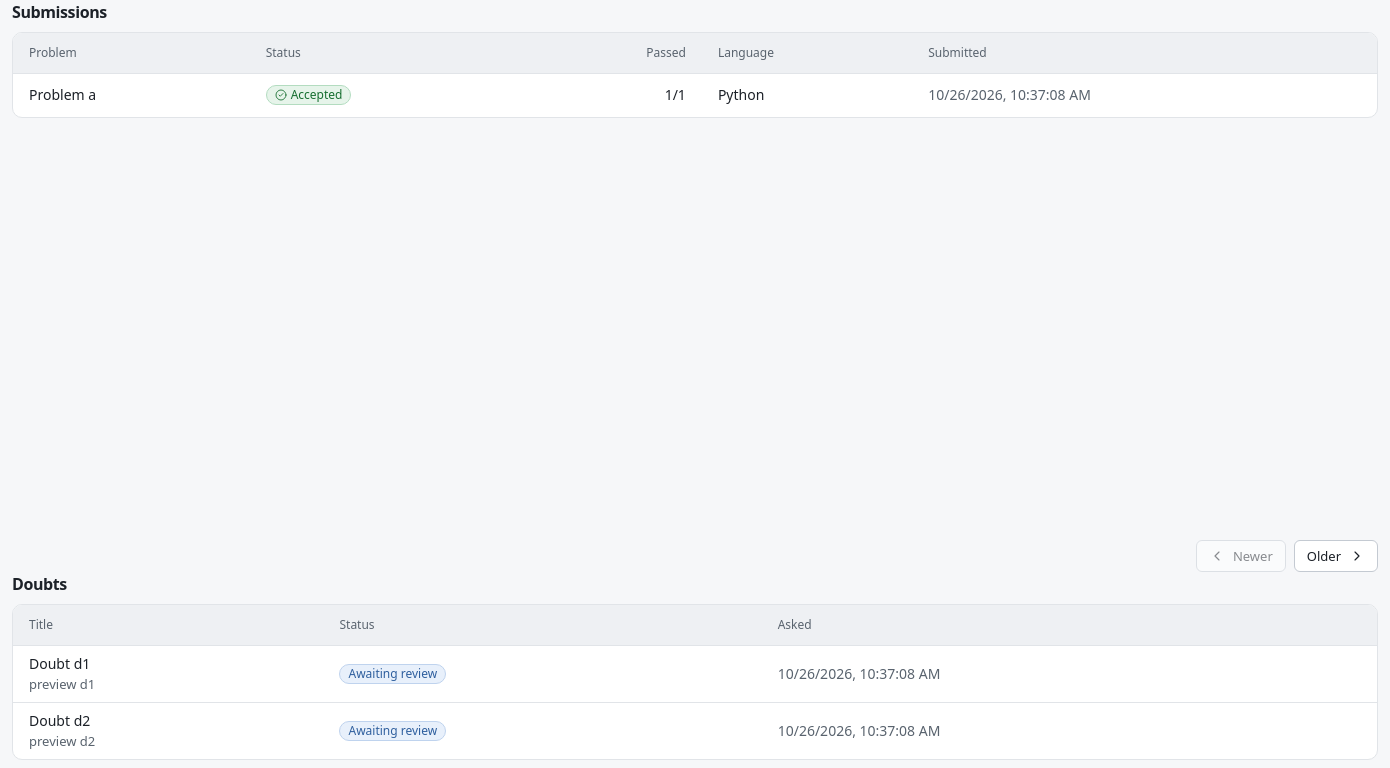
Test case: pages Older, Newer and Newest, keeping each list cursor in its own URL parameter
The image size is (1390, 768).
Expected: the link "Problem a" is shown, left=29, top=85, right=96, bottom=104
Expected: the button with aria-label "Newer submissions" is disabled, left=1196, top=540, right=1286, bottom=572
Click the button with aria-label "Older submissions" at (1336, 556), box left=1294, top=540, right=1378, bottom=572
(page scrolled)
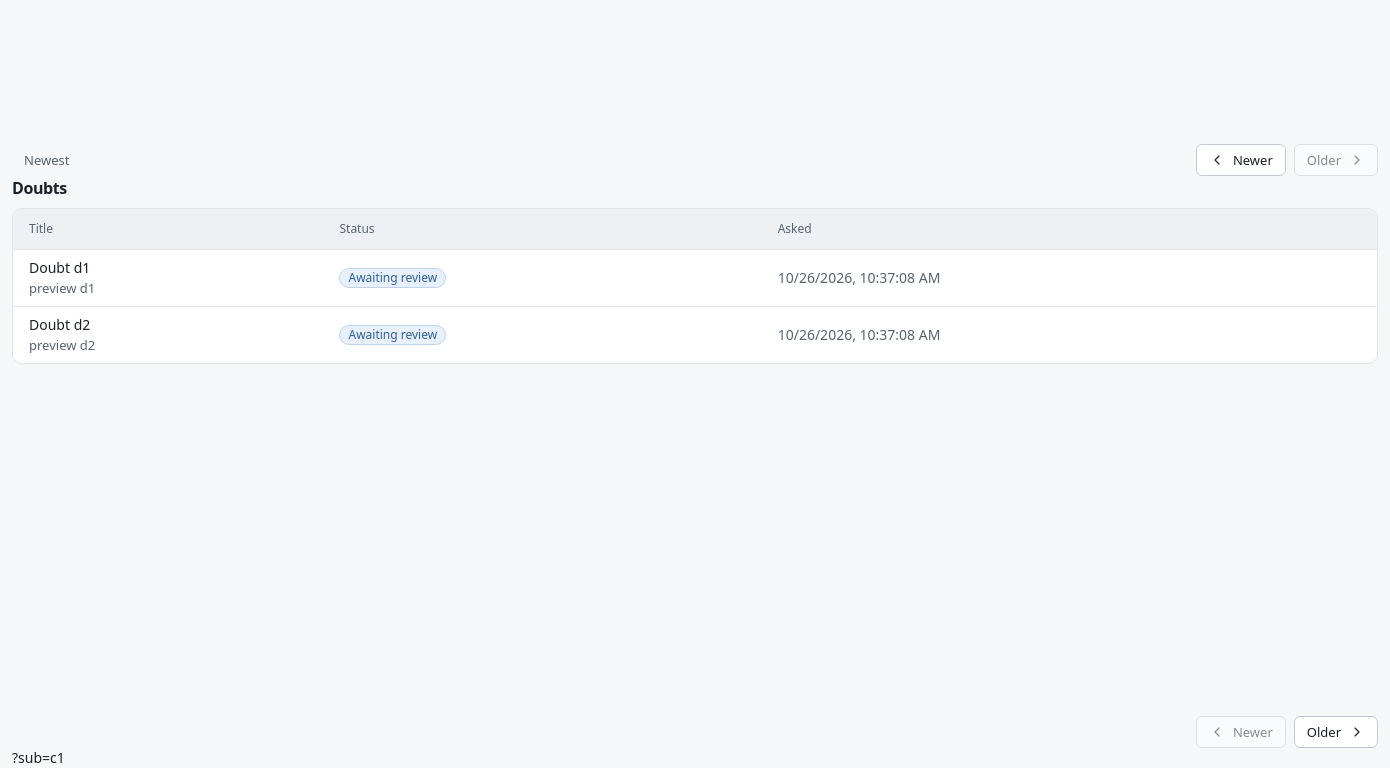
Expected: the text with test id "search" reads "?sub=c1", left=12, top=748, right=65, bottom=767
Click the button with aria-label "Older doubts" at (1336, 732), box left=1294, top=716, right=1378, bottom=748
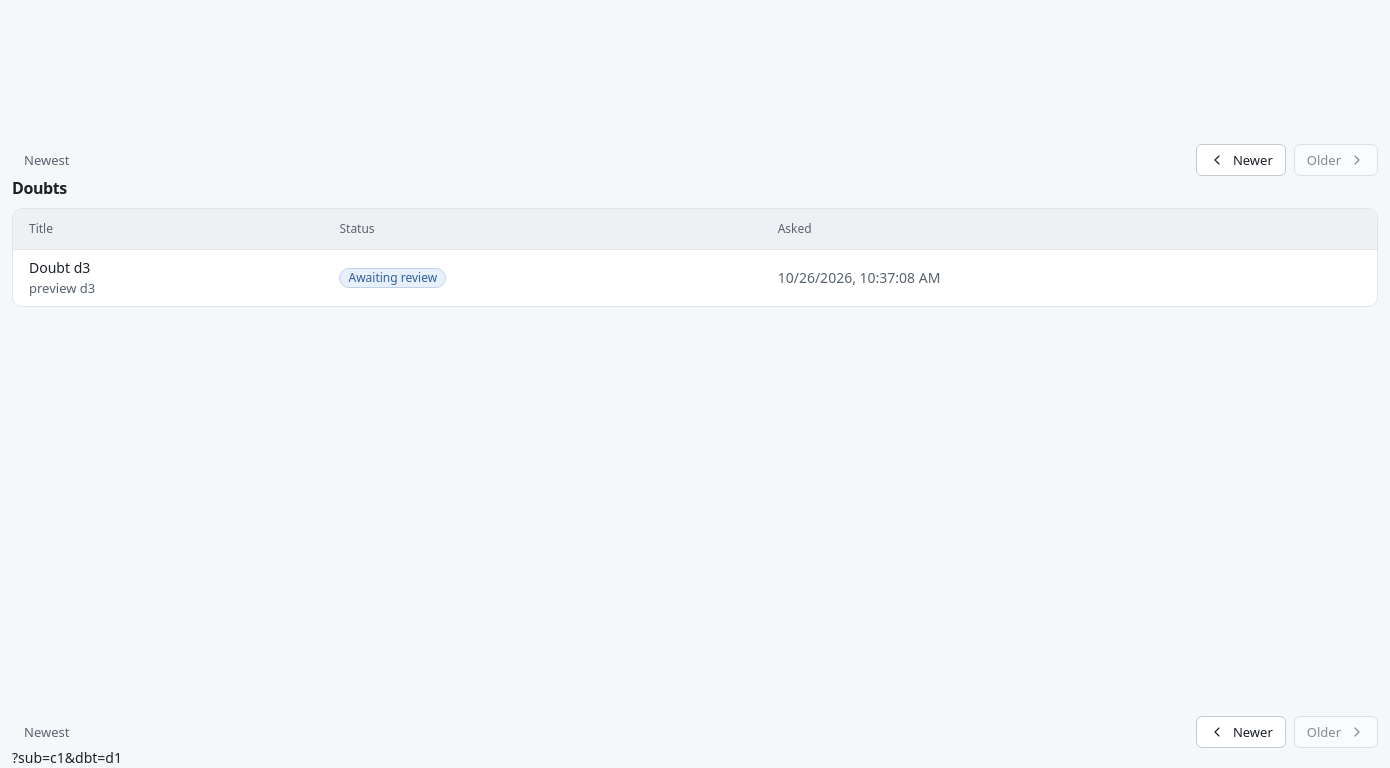
Expected: the text with test id "search" shows "sub=c1", left=12, top=748, right=122, bottom=767
Expected: the text "Doubt d3" is shown, left=29, top=258, right=90, bottom=276
Expected: the text with test id "search" shows "dbt=d1", left=12, top=748, right=122, bottom=767
Click the button with aria-label "Back to the newest submissions" at (47, 160), box left=12, top=144, right=81, bottom=176
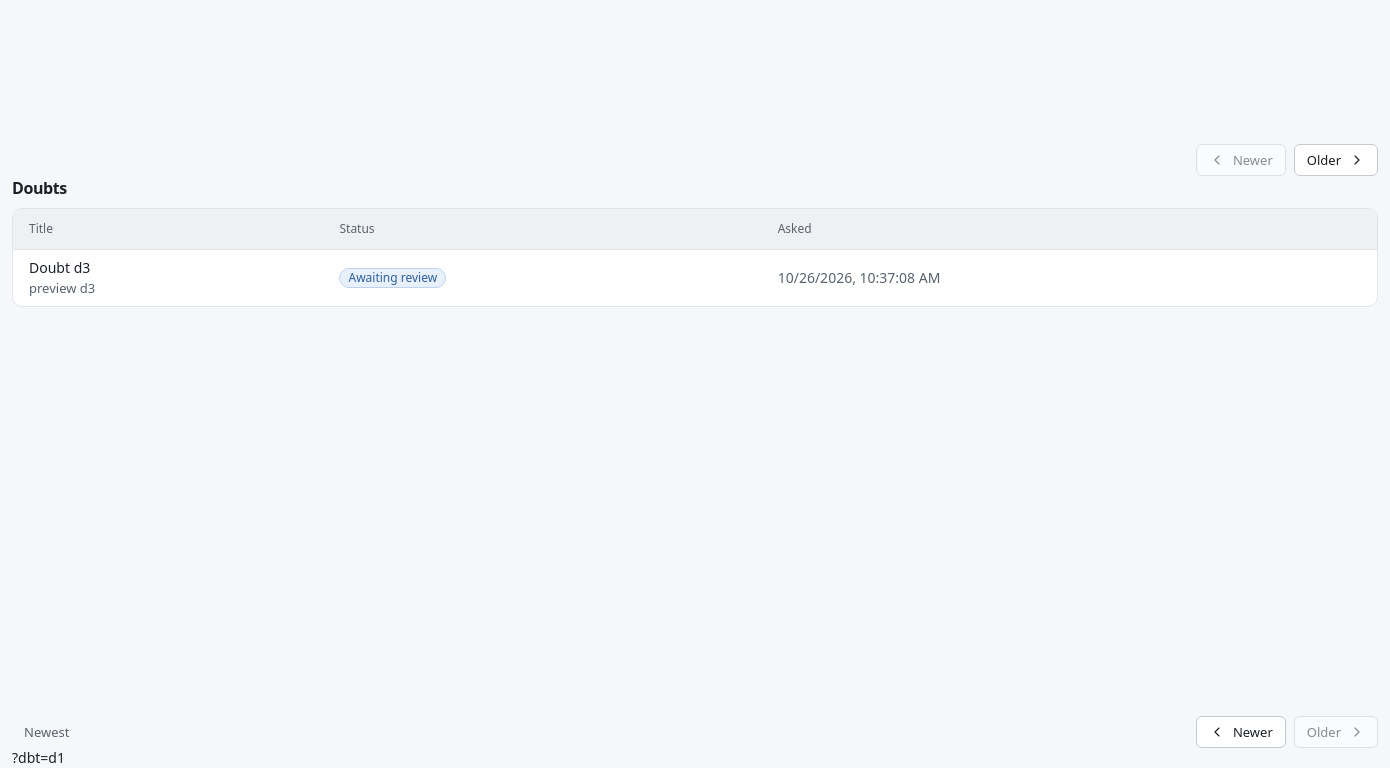
Expected: the text with test id "search" shows "dbt=d1", left=12, top=748, right=65, bottom=767
Expected: the text with test id "search" no longer shows "sub="
